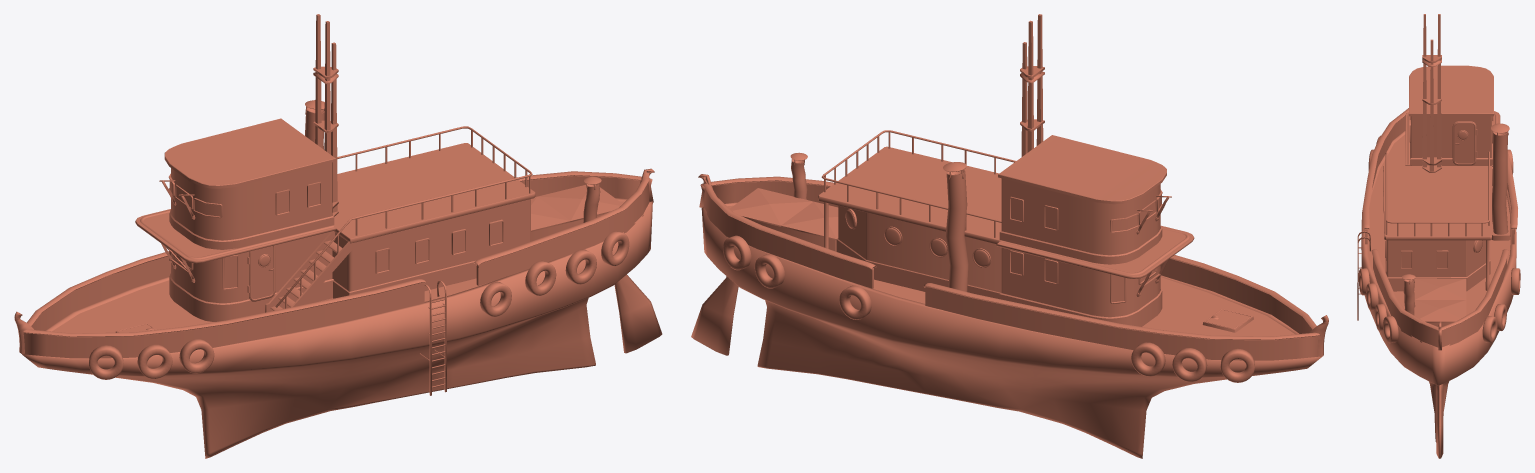
The model's file is Prop_Ship_A.fbx.
The picture shows the model from 3 angles, left to right: view 1: azimuth 30°, elevation 25°; view 2: azimuth 150°, elevation 25°; view 3: azimuth 270°, elevation 25°; orthographic projection. The views are drawn at different scales.
Parts seen in each view (by area): view 1: Prop_Ship_A_LOD0; view 2: Prop_Ship_A_LOD0; view 3: Prop_Ship_A_LOD0.
Boxes of the visible parts, x1,y1,x2,y2 form: Prop_Ship_A_LOD0: [14, 14, 662, 458]; Prop_Ship_A_LOD0: [691, 14, 1328, 458]; Prop_Ship_A_LOD0: [1357, 14, 1520, 458].
Size of what is drawn, in the model's own units: 35.72 by 21.97 by 10.03.
